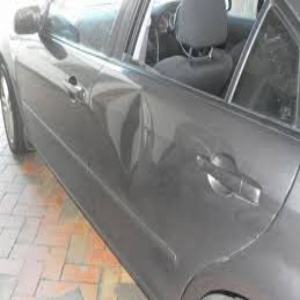door: (48, 78, 190, 197)
